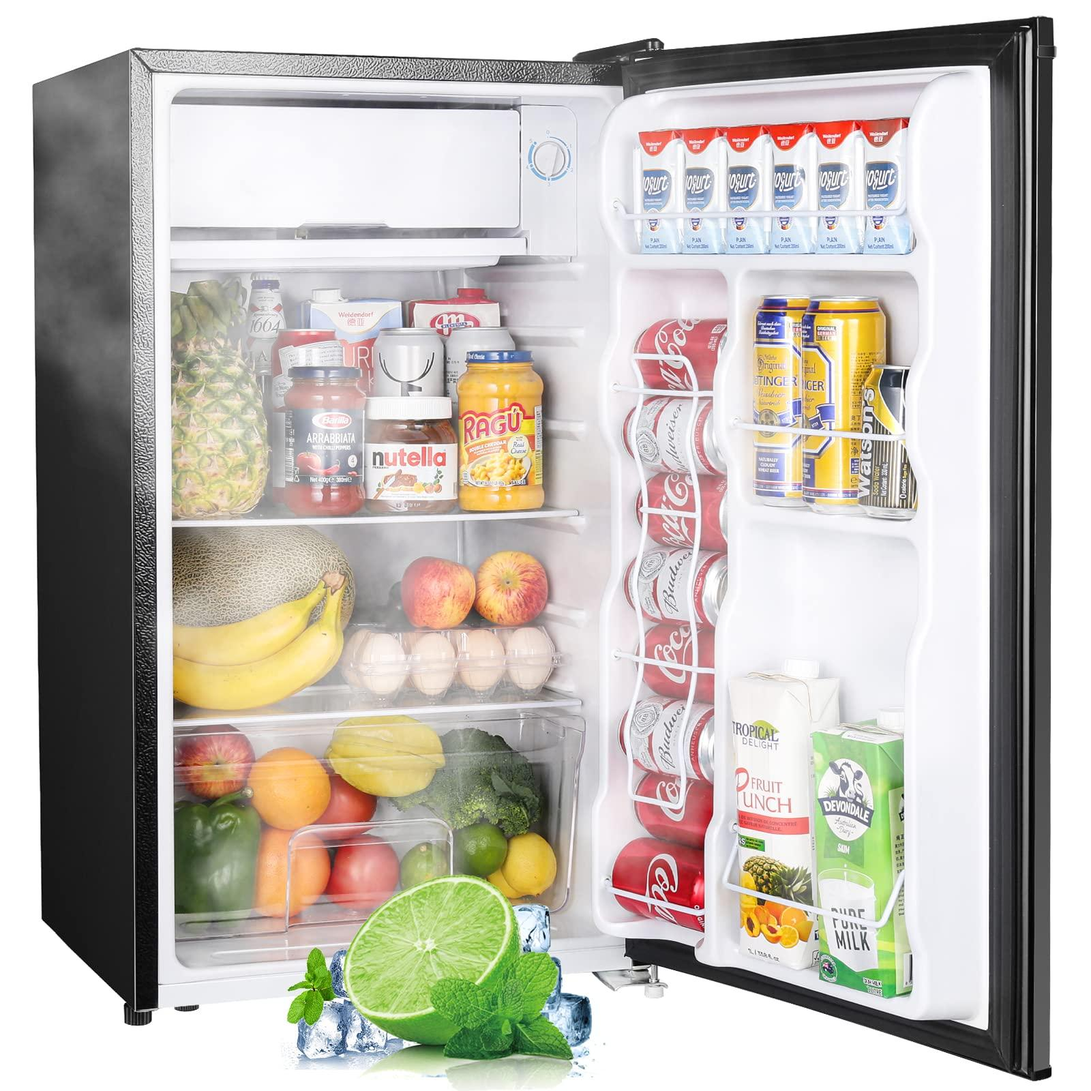apple: (395, 547, 570, 634), (175, 736, 258, 802)
banana: (175, 532, 358, 718)
eggs: (357, 601, 596, 722)
oranges: (263, 738, 356, 932)
